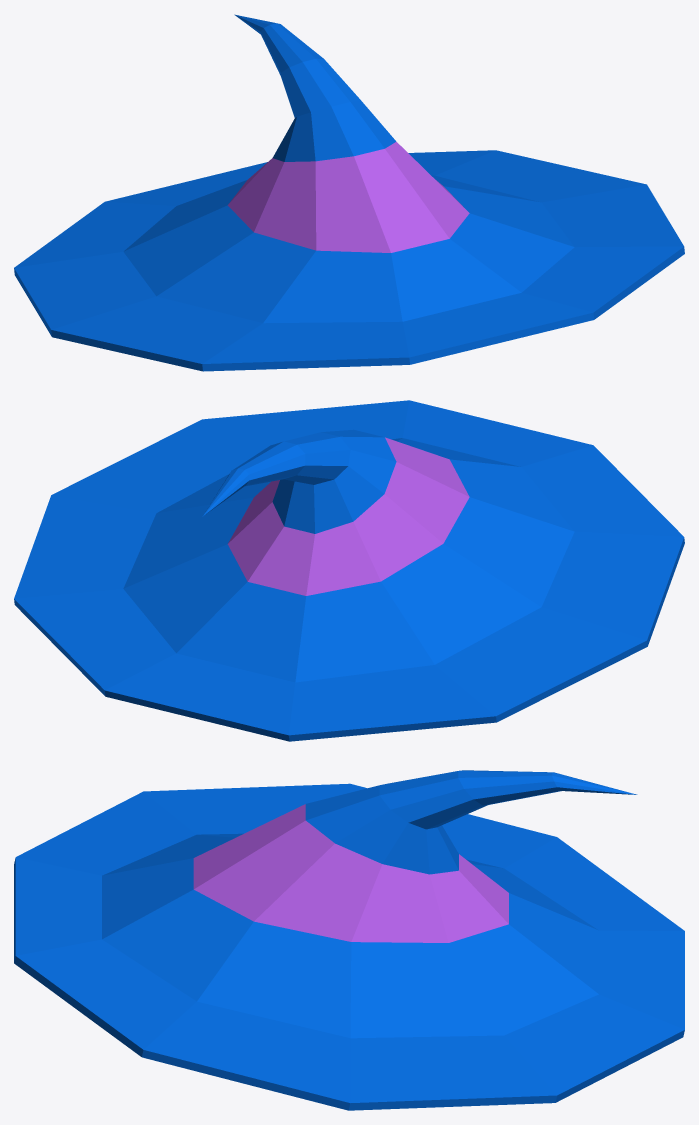
Rendered from Hat.fbx.
3 views of the same model, one above another, from view 1: azimuth 30°, elevation 25°; view 2: azimuth 150°, elevation 25°; view 3: azimuth 270°, elevation 25° (orthographic). The views are drawn at different scales.
Visible parts, largest first — view 1: polySurface3; view 2: polySurface3; view 3: polySurface3.
Boxes of the visible parts, bbox=[...] form: polySurface3: bbox=[14, 14, 684, 371]; polySurface3: bbox=[14, 400, 684, 741]; polySurface3: bbox=[14, 770, 684, 1110].
Bounding box in the file's own units: 244 × 79.13 × 216.
